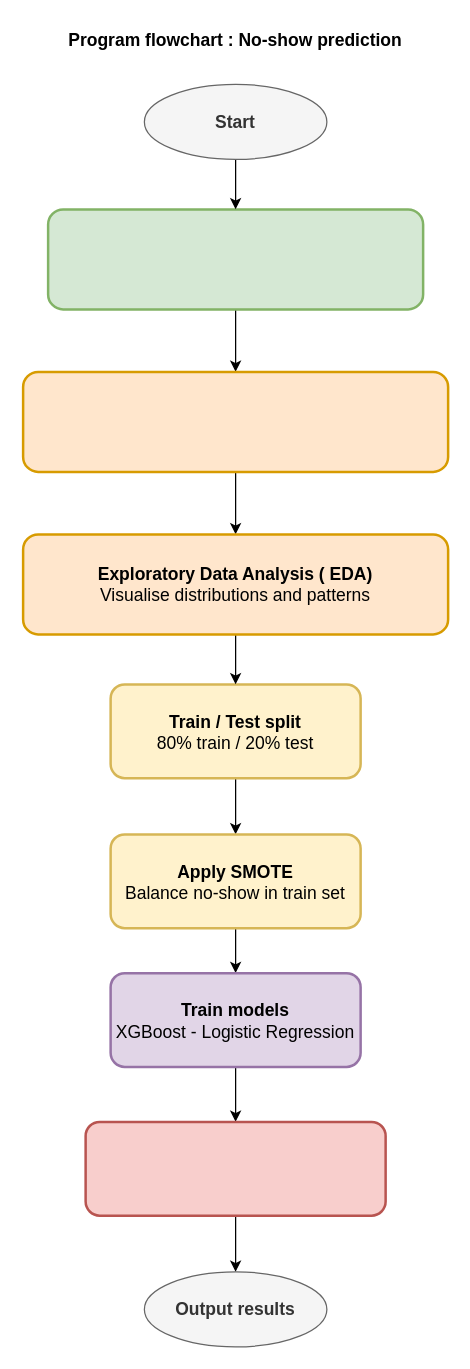
The diagram is 470 pixels wide and 1369 high, and some of its shapes have lost their labels. Each missing label, with the box of its shape:
Data cleaning Remove invalid age Encode WaitingDays (add new feature): (21, 370, 449, 472)
Evaluate on test set Accuracy / Recall / F1 / ROC-AUC: (84, 1120, 386, 1216)
Load dataset pd . read_csv ( 'KaggleV2-May-2016.csv' ): (46, 208, 424, 310)
